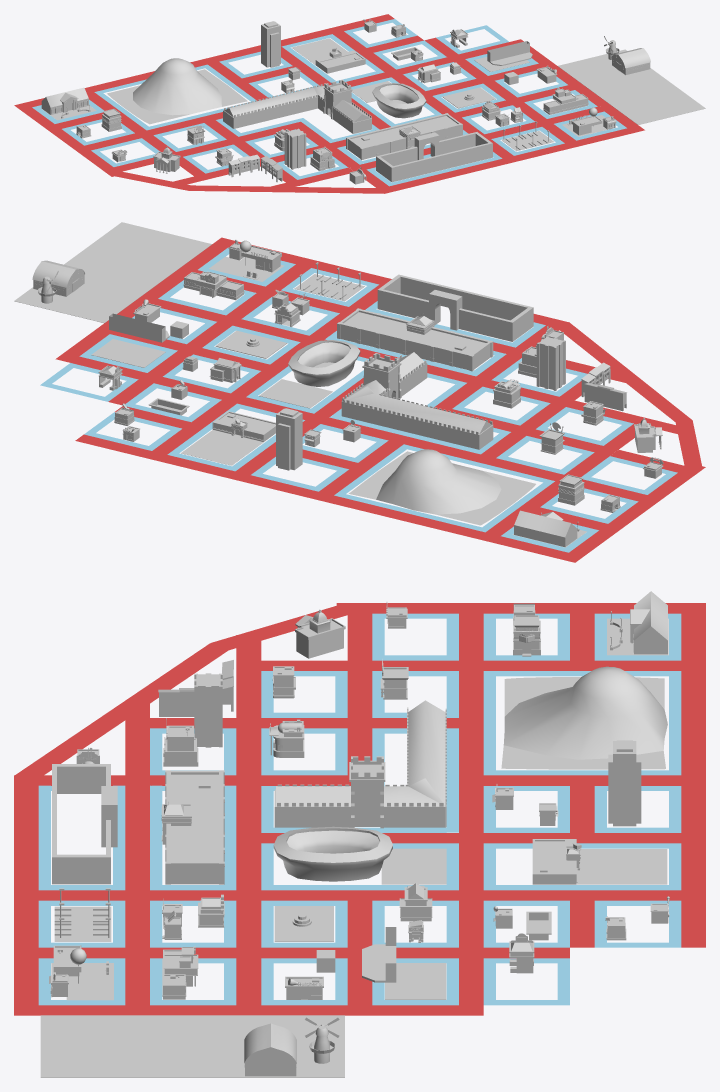
The model's file is Mapa.FBX.
3 views of the same model, one above another, from view 1: azimuth 30°, elevation 25°; view 2: azimuth 150°, elevation 25°; view 3: azimuth 270°, elevation 25° (orthographic). The views are drawn at different scales.
Visible parts, largest first — view 1: Sphere001, Box056, University, Box024, Box061, Cylinder001, Plane__97_, Museum, Building_02, Building_01, Farm_002, Plane002 (+46 smaller); view 2: Box056, Sphere001, University, Box024, Box061, Cylinder001, Plane__97_, Museum, Box026, Building_02, Building_01, Farm_002 (+49 smaller); view 3: Box056, Sphere001, University, Box061, Cylinder001, Box024, Plane__97_, Box026, Museum, Building_02, Farm_002, Box027 (+92 smaller).
Boxes of the visible parts, <box> form: Sphere001: <box>107,58,247,124</box>; Box056: <box>558,49,705,124</box>; University: <box>223,79,371,133</box>; Box024: <box>376,132,492,182</box>; Box061: <box>346,113,462,160</box>; Cylinder001: <box>372,83,426,118</box>; Plane__97_: <box>188,185,385,193</box>; Museum: <box>41,87,96,120</box>; Building_02: <box>261,21,280,67</box>; Building_01: <box>284,128,306,169</box>; Farm_002: <box>611,48,650,75</box>; Plane002: <box>487,41,532,65</box>; Box056: <box>14,222,212,323</box>; Sphere001: <box>349,449,535,525</box>; University: <box>341,352,493,449</box>; Box024: <box>377,274,533,341</box>; Box061: <box>337,308,493,371</box>; Cylinder001: <box>288,340,360,386</box>; Plane__97_: <box>556,322,692,422</box>; Museum: <box>513,510,586,547</box>; Box026: <box>181,430,263,465</box>; Building_02: <box>276,408,302,470</box>; Building_01: <box>536,336,565,390</box>; Farm_002: <box>32,260,85,296</box>; Box056: <box>40,1015,344,1077</box>; Sphere001: <box>501,666,667,769</box>; University: <box>274,700,446,828</box>; Box061: <box>165,770,224,884</box>; Cylinder001: <box>273,826,392,881</box>; Box024: <box>52,764,110,884</box>; Plane__97_: <box>14,643,228,781</box>; Box026: <box>577,849,667,884</box>; Museum: <box>607,591,668,655</box>; Building_02: <box>608,740,641,826</box>; Farm_002: <box>244,1023,296,1076</box>; Box027: <box>381,848,446,884</box>.
Bounding box in the file's own units: 90.94 × 7.3 × 56.01.
